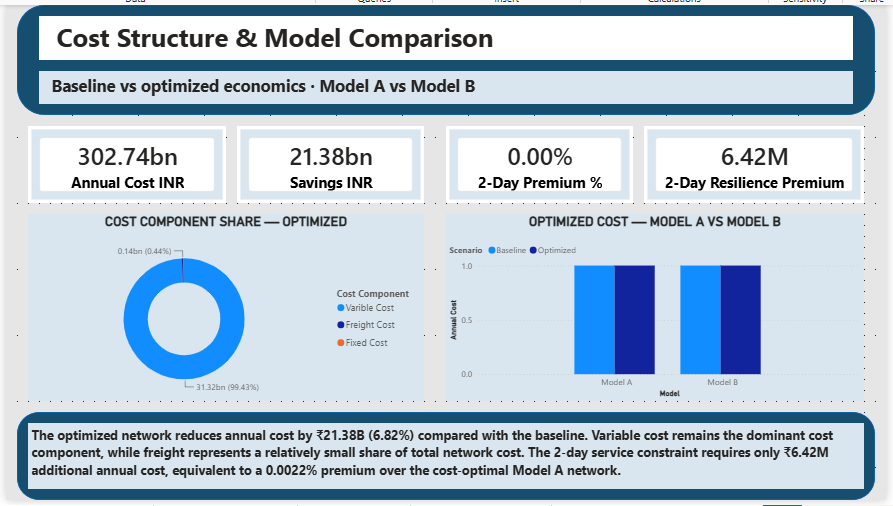

The page's visual inventory and layout, read from the dashboard file:
{"tool":"powerbi","page":{"name":"Cost Analysis","canvas":[1280,720],"ordinal":2},"visuals":[{"type":"shape","box":[16,0,1248,160],"z":0},{"type":"cardVisual","fields":{"Data":["model_a_vs_model_b.2-Day Premium %"]},"box":[640,176,272,112],"z":1000},{"type":"cardVisual","fields":{"Data":["Avg(network_optimization_kpis.Annual_Cost_INR)"]},"box":[32,176,288,112],"z":2000},{"type":"cardVisual","fields":{"Data":["Avg(network_optimization_kpis.Savings_INR)"]},"box":[336,176,272,112],"z":3000},{"type":"cardVisual","fields":{"Data":["model_a_vs_model_b.2-Day Resilience Premium"]},"box":[928,176,320,112],"z":4000},{"type":"textbox","box":[48,16,1184,64],"z":5000},{"type":"textbox","box":[48,96,1184,48],"z":6000},{"type":"shape","box":[16,592,1248,128],"z":7000},{"type":"textbox","box":[32,608,1216,96],"z":8000},{"type":"donutChart","title":"COST COMPONENT SHARE — OPTIMIZED","fields":{"Category":["Table.Cost Component"],"Y":["Avg(Table.Cost_INR)"]},"box":[32,304,576,272],"z":9000},{"type":"clusteredColumnChart","title":"OPTIMIZED COST — MODEL A VS MODEL B","fields":{"Category":["network_optimization_kpis.Model"],"Y":["CountNonNull(network_optimization_kpis.Annual_Cost_INR)"],"Series":["network_optimization_kpis.Scenario"]},"box":[640,304,608,272],"z":10000}]}

Visuals, with their boxes on the page's 1280x720 design canvas (x1, y1, x2, y2). These are canvas units, not pixel positions in the 893x506 screenshot, which may show the page scaled, cropped or inside an application window:
shape: [16, 0, 1264, 160]
cardVisual - model_a_vs_model_b.2-Day Premium %: [640, 176, 912, 288]
cardVisual - Avg(network_optimization_kpis.Annual_Cost_INR): [32, 176, 320, 288]
cardVisual - Avg(network_optimization_kpis.Savings_INR): [336, 176, 608, 288]
cardVisual - model_a_vs_model_b.2-Day Resilience Premium: [928, 176, 1248, 288]
textbox: [48, 16, 1232, 80]
textbox: [48, 96, 1232, 144]
shape: [16, 592, 1264, 720]
textbox: [32, 608, 1248, 704]
"COST COMPONENT SHARE — OPTIMIZED" donutChart: [32, 304, 608, 576]
"OPTIMIZED COST — MODEL A VS MODEL B" clusteredColumnChart: [640, 304, 1248, 576]
